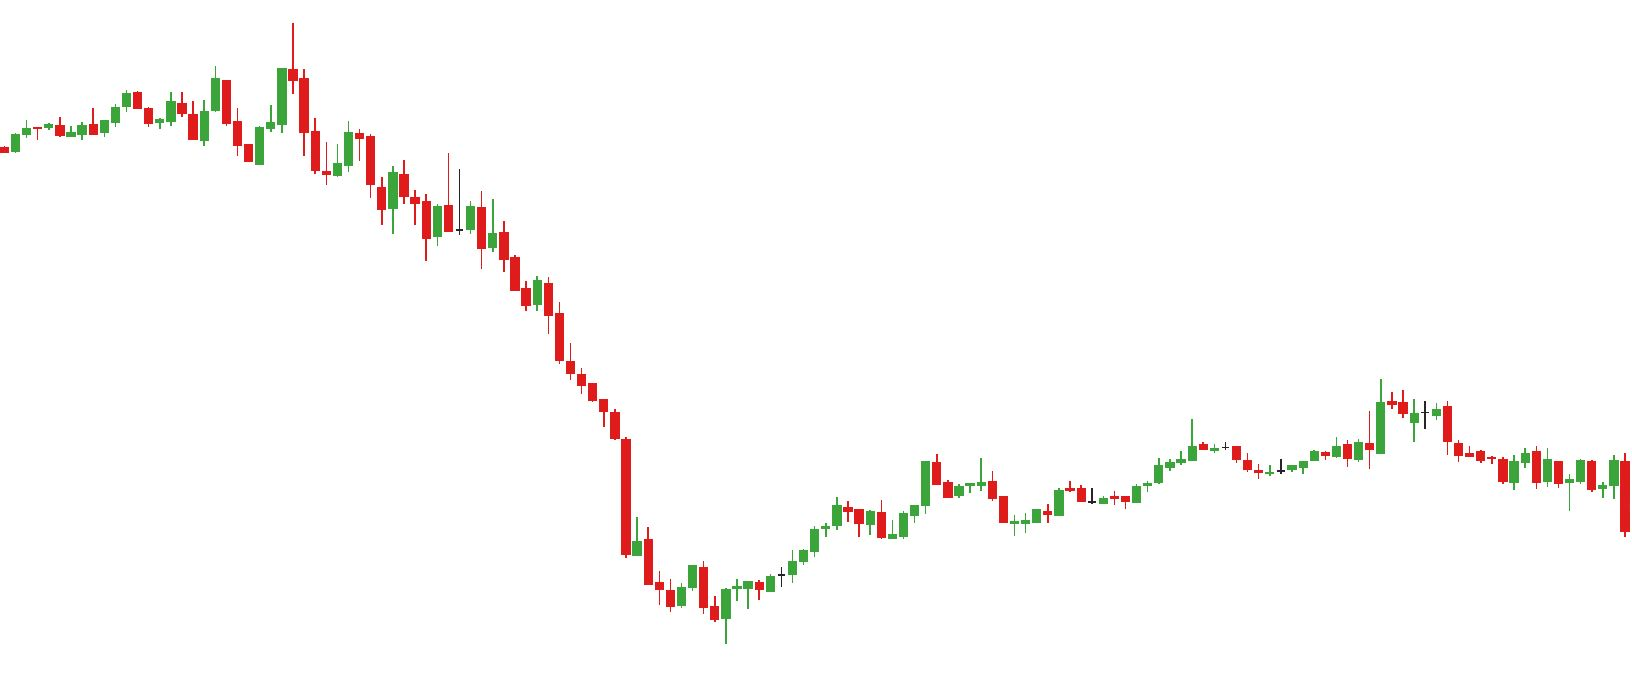sell: (211, 12, 299, 133)
